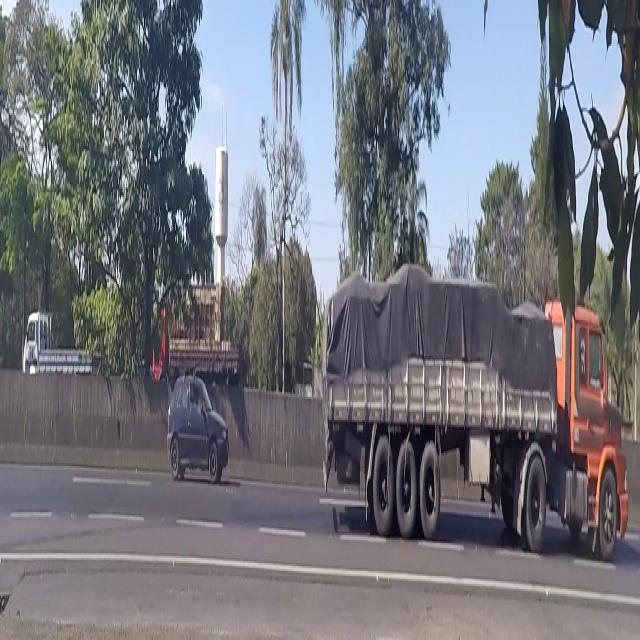-axle: (525, 448, 548, 558), (372, 434, 392, 551), (420, 436, 440, 546), (598, 462, 619, 560), (396, 438, 415, 540)
